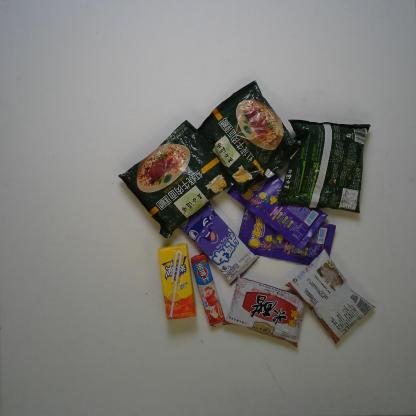Candy: (228, 157, 326, 249), (234, 198, 341, 272), (180, 202, 254, 280), (189, 248, 226, 324)
Drink: (159, 243, 195, 320)
Instant Noodles: (194, 77, 305, 200), (118, 120, 235, 233), (277, 116, 370, 217)
Seasoner: (281, 245, 379, 347), (223, 270, 305, 348)
